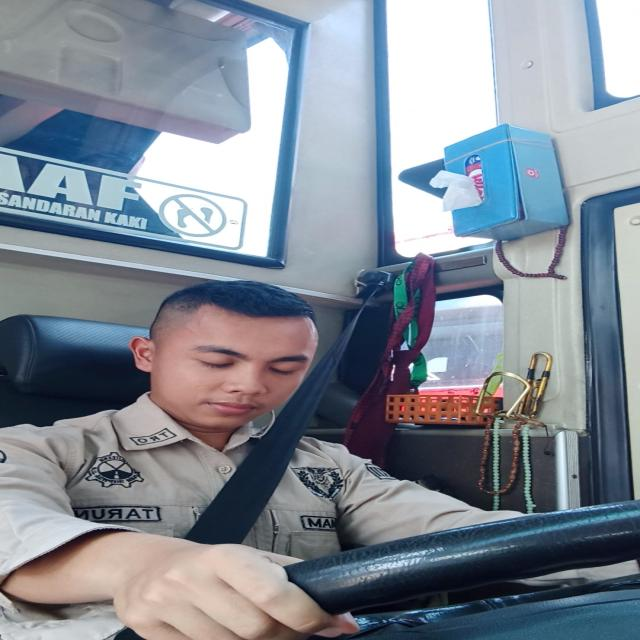3: (182, 436, 300, 540)
no-seatbelt: (158, 294, 315, 424)
